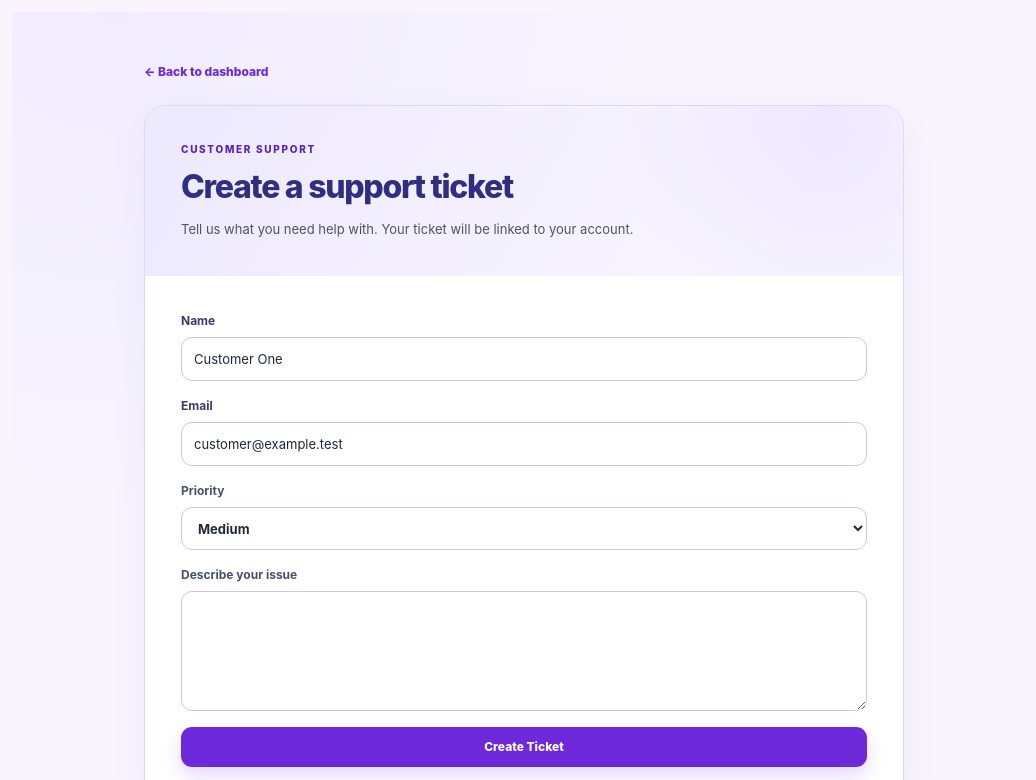
Test case: Ticket creation page › creates an owned ticket with an initial public issue comment
The image size is (1036, 780).
Select "High" in the dropdown labelled "Priority": (524, 529) [181,507,867,550]
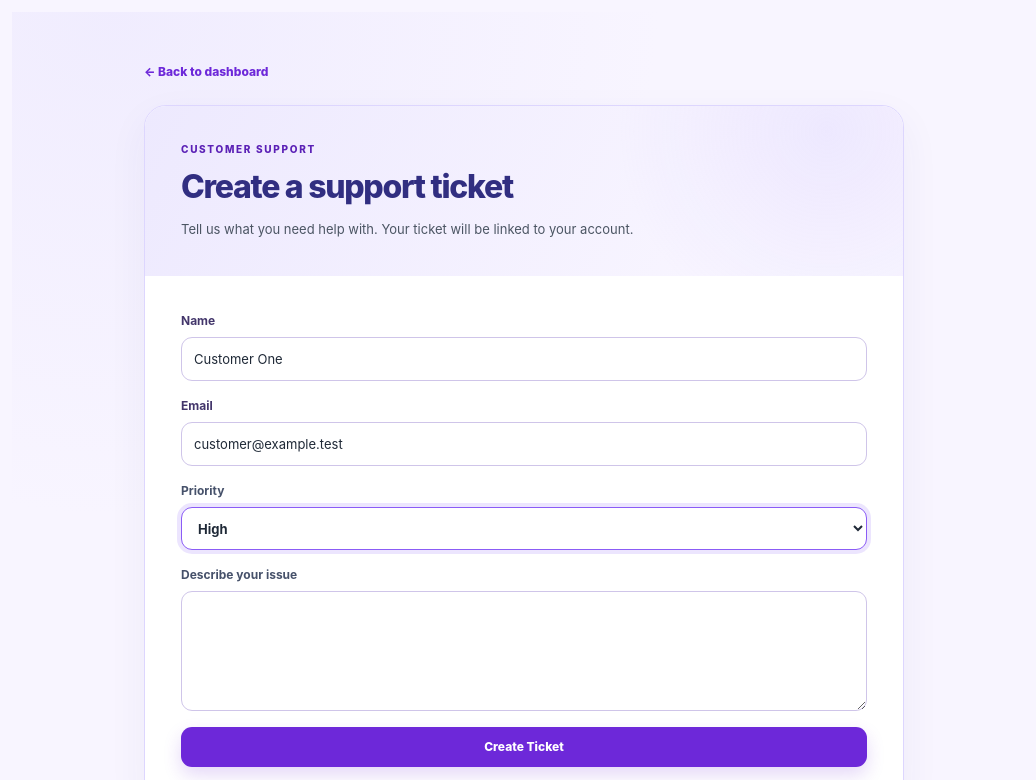
In the text box labelled "Describe your issue": (524, 651) [181,591,867,711], type "I cannot access my account."
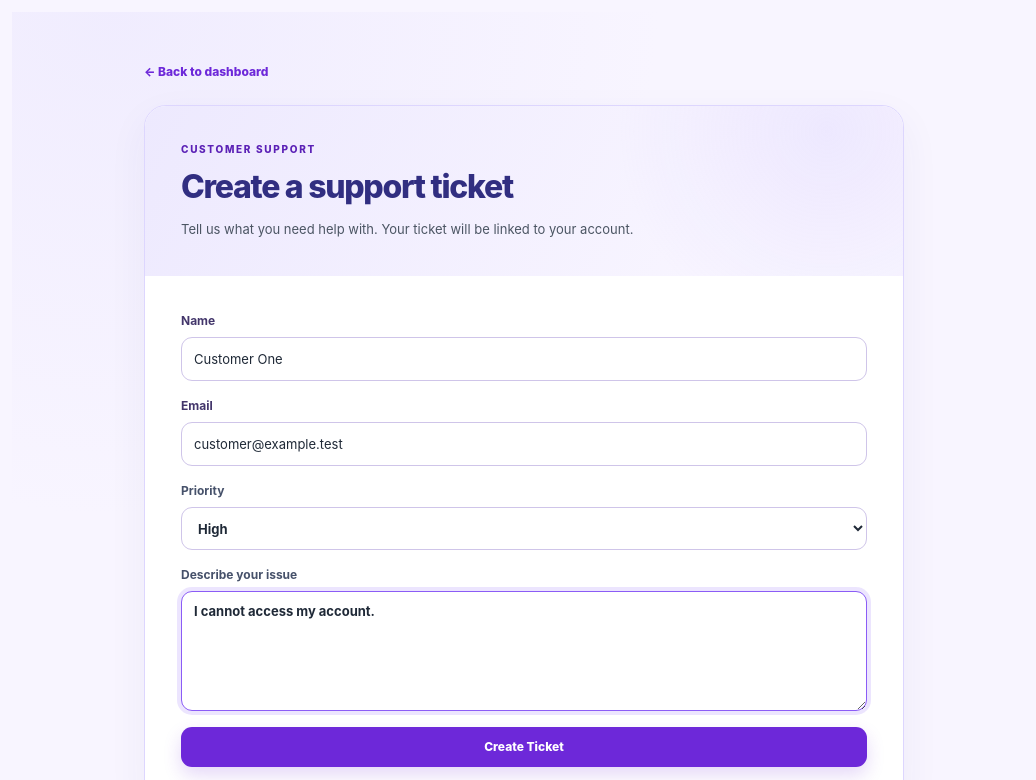
Click the button "Create Ticket": (524, 747) [181,727,867,767]
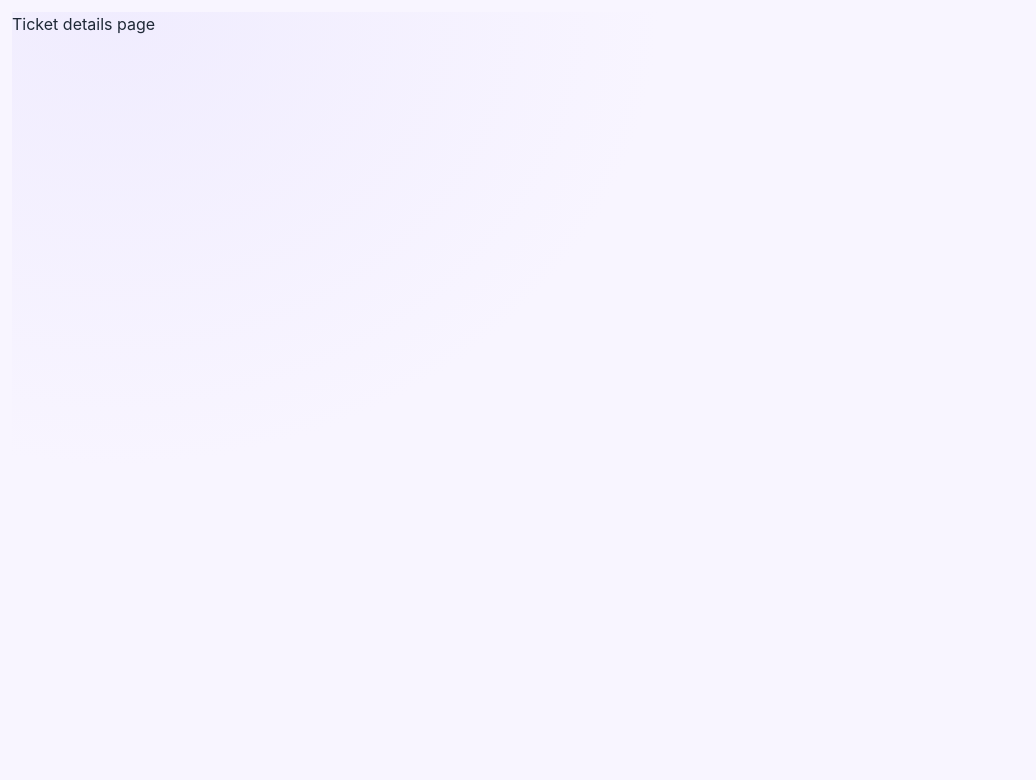
Result: the text "Ticket details page" is shown at [12,14,155,34]
